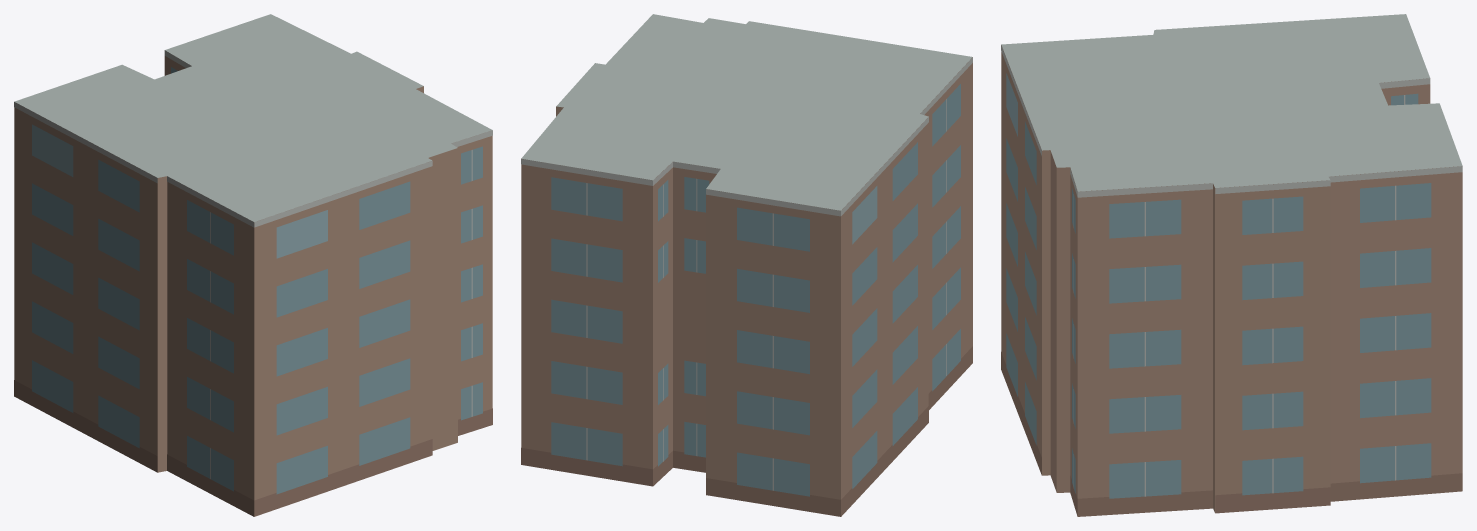
Rendered from survey-upis-32926556.glb.
3 views of the same model, side by side, from view 1: azimuth 30°, elevation 25°; view 2: azimuth 150°, elevation 25°; view 3: azimuth 270°, elevation 25° (orthographic). The views are drawn at different scales.
Visible parts, largest first — view 1: survey-upis-32926556.tmp; view 2: survey-upis-32926556.tmp; view 3: survey-upis-32926556.tmp.
Part boxes in pixels (bbox=[...]): survey-upis-32926556.tmp: bbox=[14, 14, 492, 516]; survey-upis-32926556.tmp: bbox=[521, 14, 972, 516]; survey-upis-32926556.tmp: bbox=[1001, 14, 1462, 516].
Size of the model in its own units: 15.23 by 13 by 16.73.
